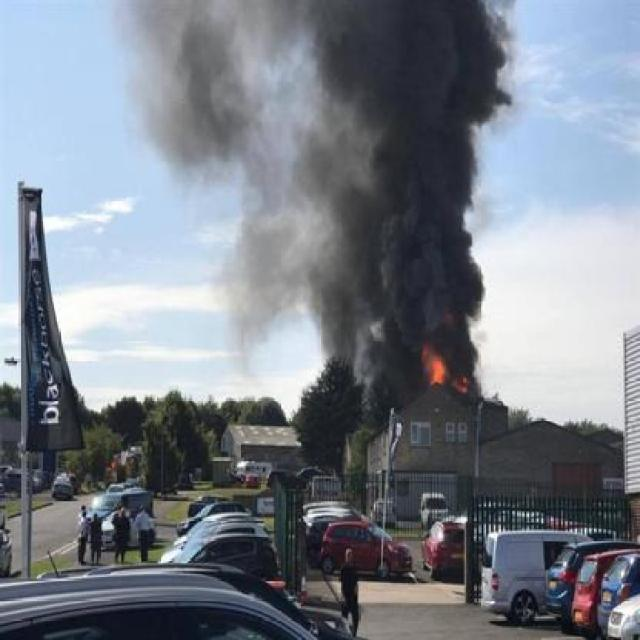Fire: (418, 337, 478, 406)
Smoke: (141, 2, 327, 330), (326, 8, 508, 330), (326, 332, 422, 412)
